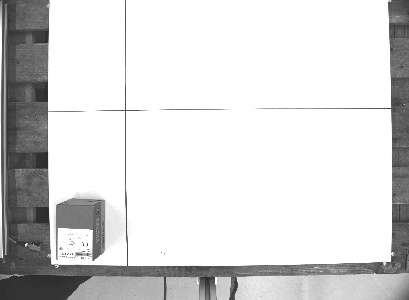b4: (54, 197, 107, 263)
